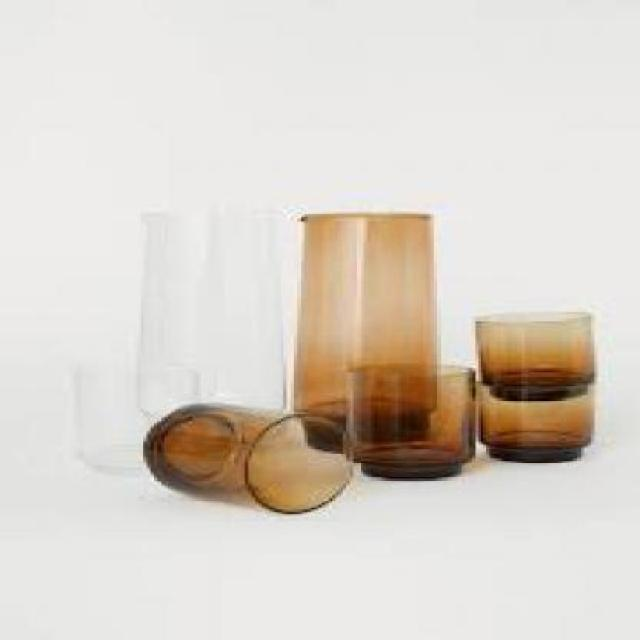kaca: (291, 209, 434, 449), (129, 208, 280, 409), (140, 403, 349, 509), (340, 363, 475, 477), (70, 363, 192, 471), (469, 312, 591, 398), (472, 377, 594, 463)
